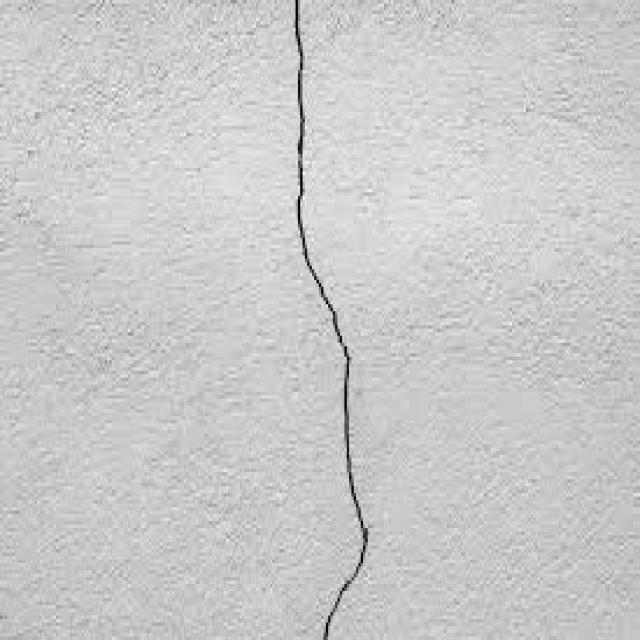Crack: (291, 0, 370, 637)
